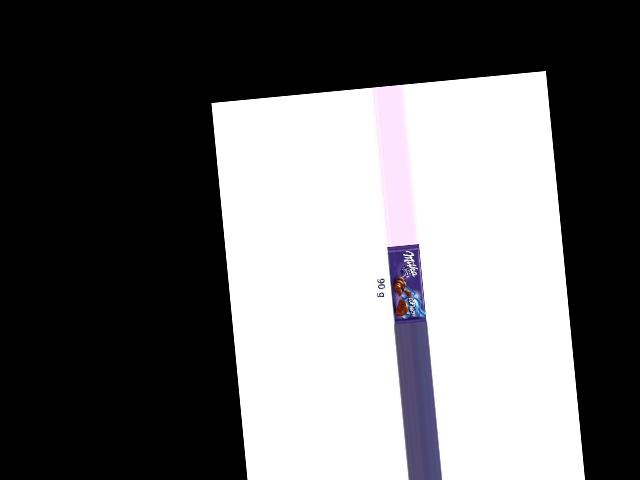chocolate: (387, 245, 426, 325)
